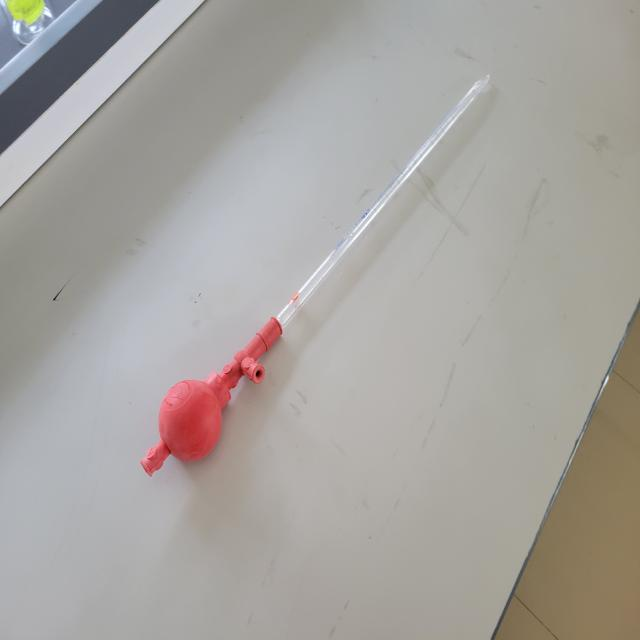Volumetric_Pipet: (119, 30, 507, 544)
